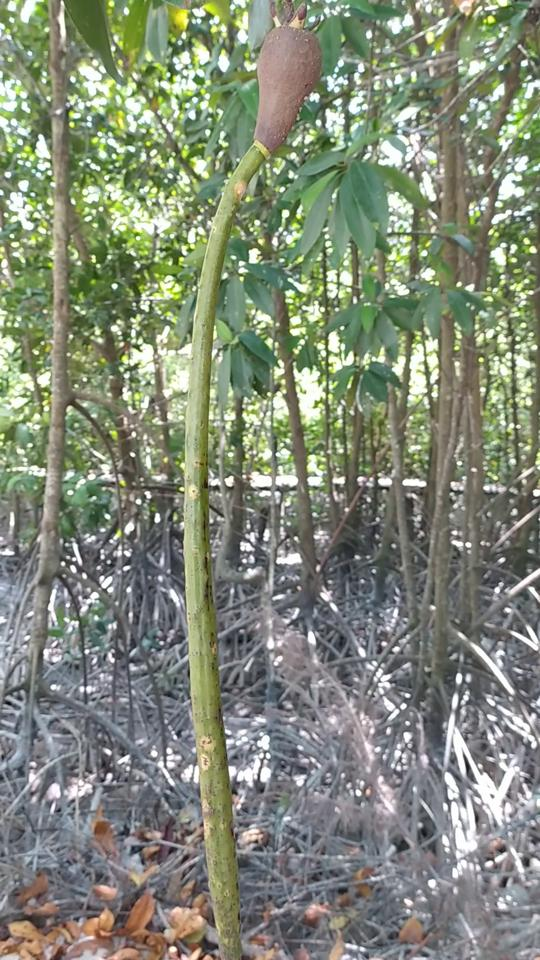setengah matang: (183, 7, 335, 959)
